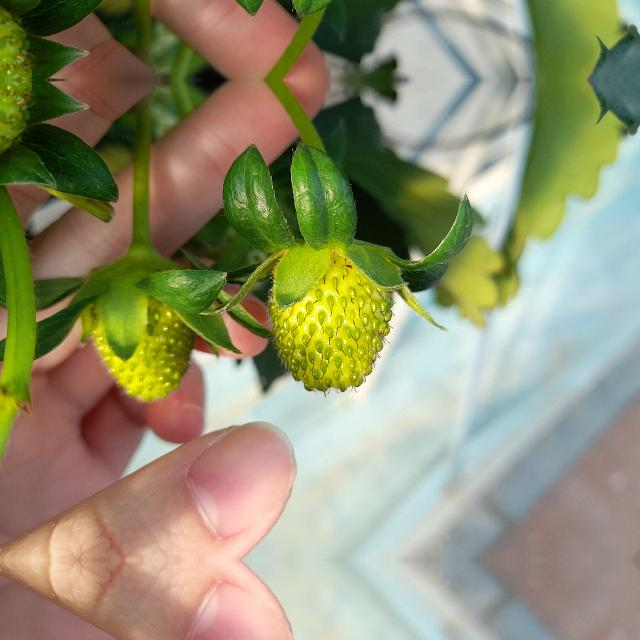Health_25: (266, 250, 396, 398), (85, 267, 201, 403)
